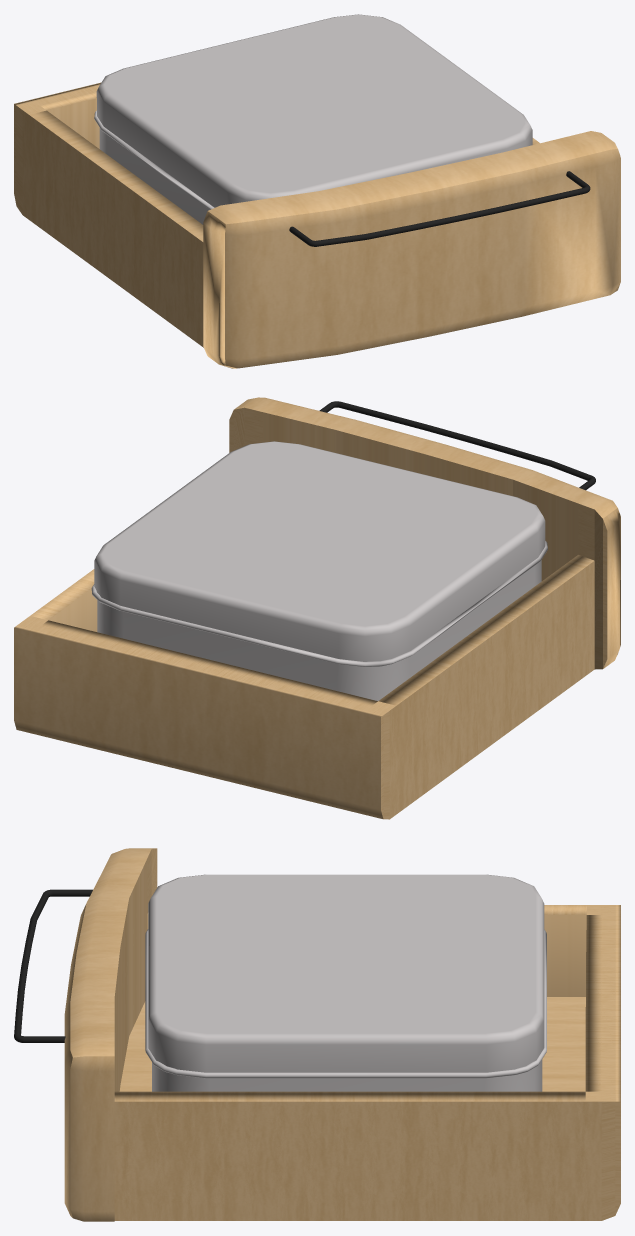
File: hikidasi_K.fbx
The picture shows the model from 3 angles, top to bottom: view 1: azimuth 30°, elevation 25°; view 2: azimuth 150°, elevation 25°; view 3: azimuth 270°, elevation 25°; orthographic projection. The views are drawn at different scales.
Visible parts, largest first — view 1: hikidasi_K; view 2: hikidasi_K; view 3: hikidasi_K.
Boxes of the visible parts, <box> form: hikidasi_K: <box>14,14,620,368</box>; hikidasi_K: <box>14,397,620,819</box>; hikidasi_K: <box>14,848,620,1221</box>.
Size of the model in its own units: 260 by 100 by 313.
Materials: 3 (3 with a texture image).
